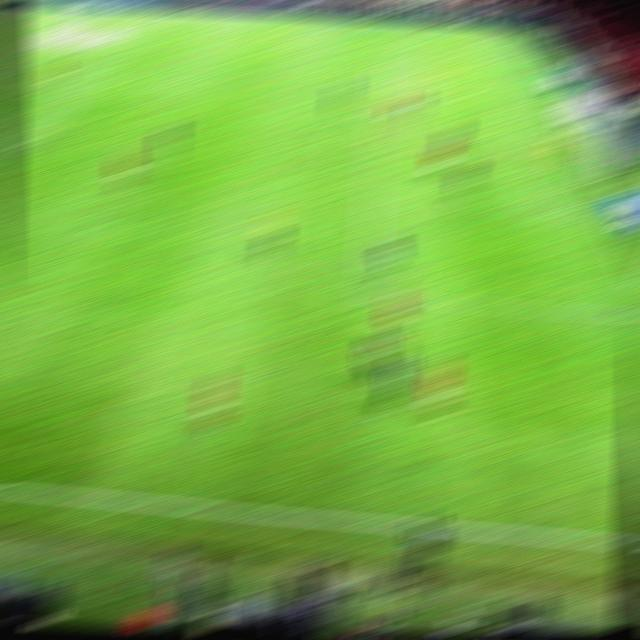bigarea_bottom_inner: (357, 289, 380, 301)
bigarea_top_inner: (372, 56, 392, 63)
bigarea_top_outter: (518, 66, 545, 75)
bottom_arc_area_intersection: (364, 179, 384, 185)
corner: (502, 27, 524, 30)
halfcircle_top: (5, 73, 22, 81)
midline_top_intersection: (86, 5, 121, 18)
smallarea_bottom_inner: (517, 200, 543, 213)
smallarea_bottom_outter: (592, 206, 616, 214)
smallarea_top_inner: (486, 105, 508, 112)
smallarea_top_outter: (538, 106, 564, 119)
top_arc_area_intersection: (369, 101, 392, 109)
